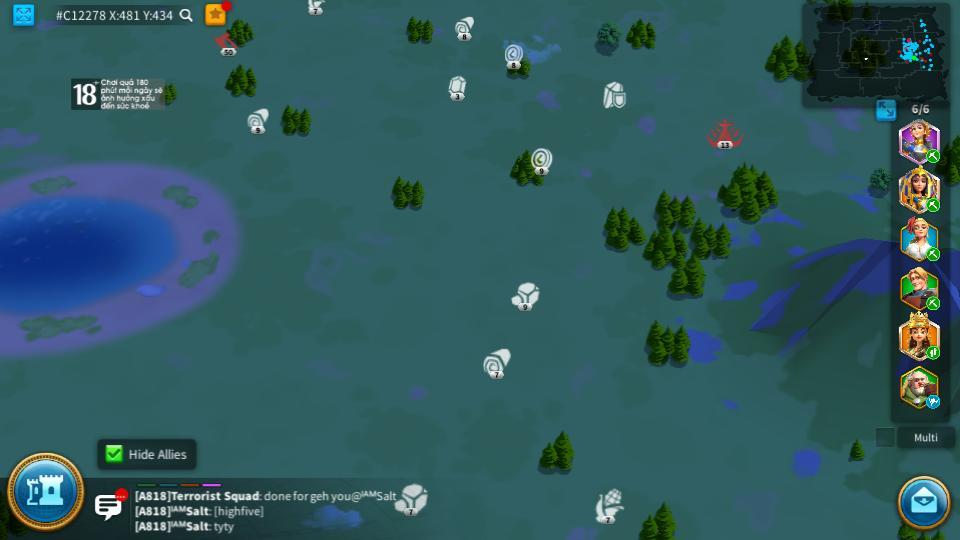gem-z-out: (515, 281, 539, 305), (446, 75, 468, 98)
march_idle: (925, 396, 942, 408)
march_marching: (925, 197, 941, 212), (925, 347, 942, 359), (925, 150, 942, 162), (925, 297, 942, 308)
